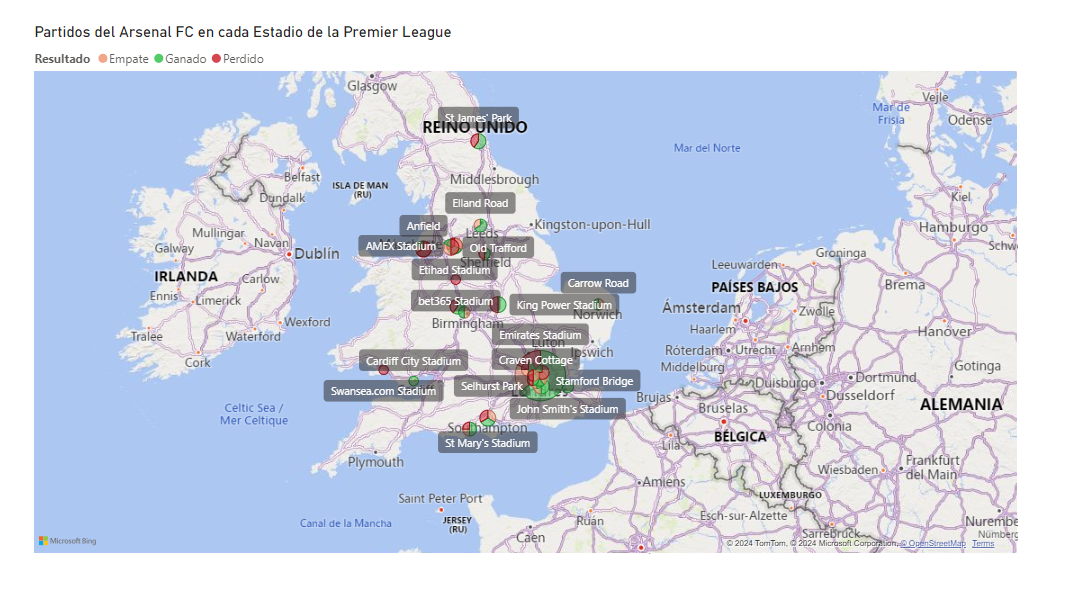

Layout of this report page (visuals, bound fields, positions):
{"tool":"powerbi","page":{"name":"Resultados mapa","canvas":[1280,720],"ordinal":5},"visuals":[{"type":"map","title":"Partidos del Arsenal FC en cada Estadio de la Premier League","fields":{"Category":["dwh dimarsenalmatches.Stadium"],"Size":["CountNonNull(dwh dimarsenalmatches.Stadium)"],"Series":["dwh dimarsenalmatches.Resultado"]},"box":[73.8,30.9,1101.6,594.8],"z":0}]}

Visuals, with their boxes in screenshot pixels (x1, y1, x2, y2), scaled from the page's 1280x720 canvas onto the 1070x600 screenshot:
"Partidos del Arsenal FC en cada Estadio de la Premier League" map: select_region(62, 26, 983, 521)
